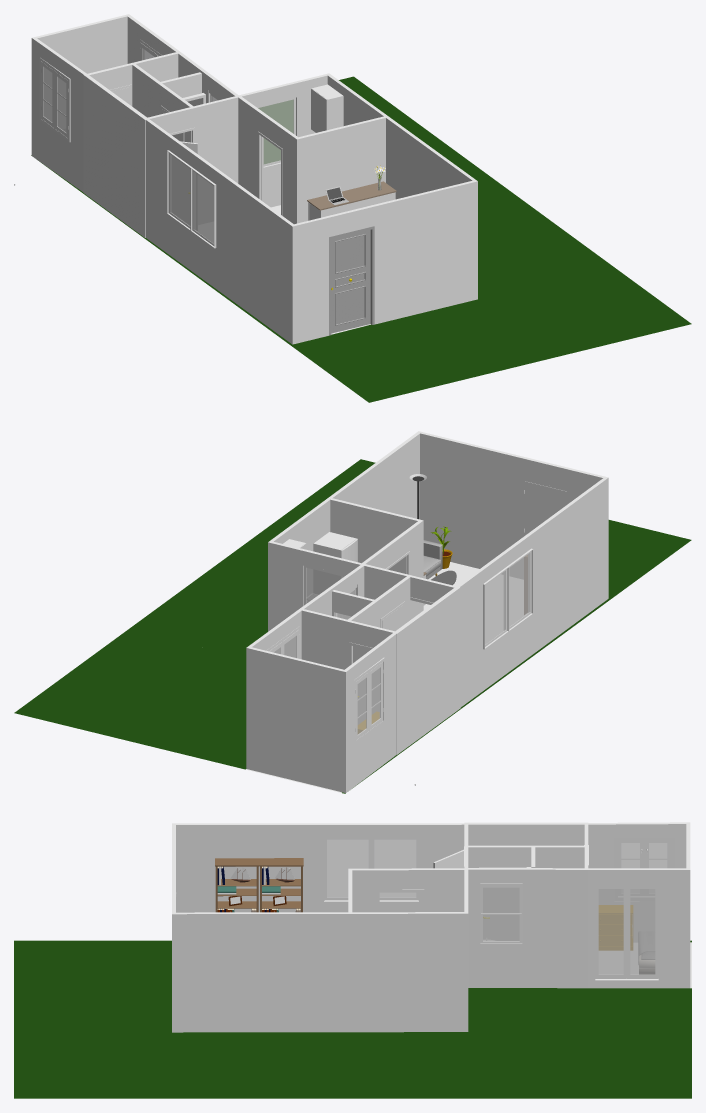
File: casaColorata.glb
3 renders of one model, top to bottom at view 1: azimuth 30°, elevation 25°; view 2: azimuth 150°, elevation 25°; view 3: azimuth 270°, elevation 25°, orthographic. The views are drawn at different scales.
Visible parts, largest first — view 1: Casaprova2; view 2: Casaprova2; view 3: Casaprova2.
Boxes of the visible parts, x1,y1,x2,y2 form: Casaprova2: [31, 14, 691, 402]; Casaprova2: [14, 431, 691, 793]; Casaprova2: [14, 822, 691, 1098].
Size of the model in its own units: 810 by 251 by 1298.
38 materials, 2 textured.
